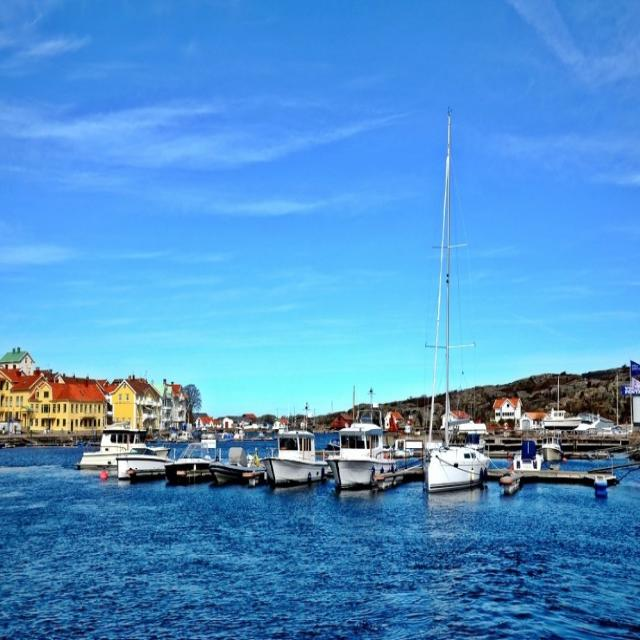passenger ship: (318, 407, 388, 494), (428, 409, 490, 505), (270, 409, 329, 496), (162, 430, 222, 476)
